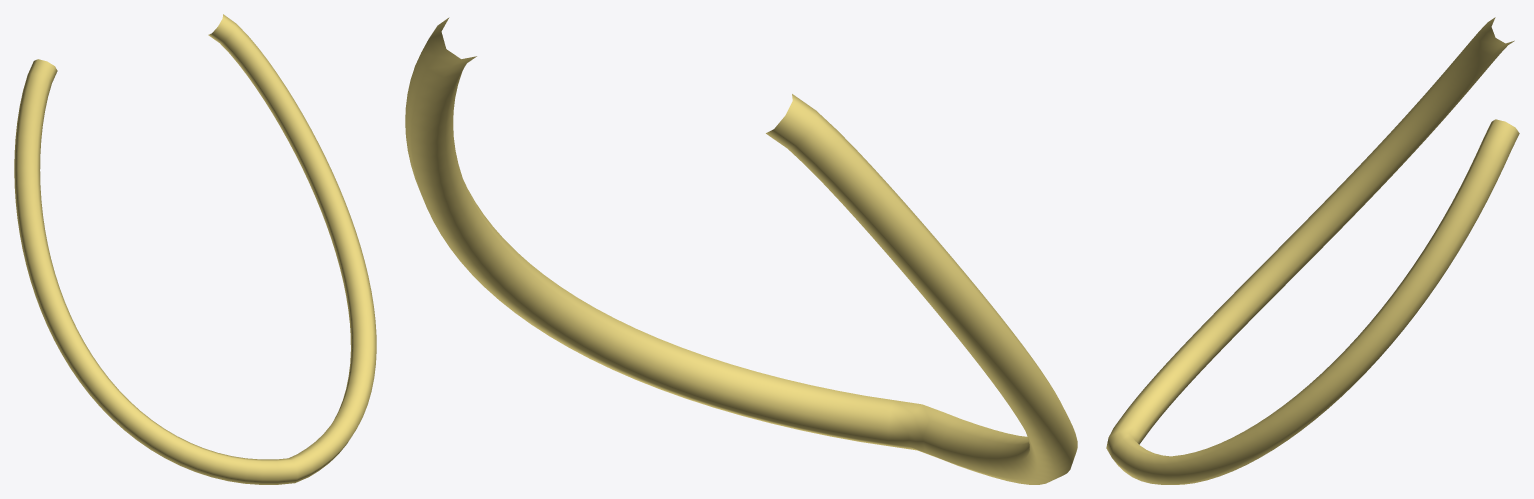
File: shyn-prod-3.glb
3 renders of one model, left to right at view 1: azimuth 30°, elevation 25°; view 2: azimuth 150°, elevation 25°; view 3: azimuth 270°, elevation 25°, orthographic. The views are drawn at different scales.
Visible parts, largest first — view 1: part; view 2: part; view 3: part.
Part boxes in pixels (x1,y1,x2,y2): part: (14, 14, 376, 484); part: (405, 17, 1077, 484); part: (1106, 17, 1519, 484).
Size of the model in its own units: 0.4457 by 0.4475 by 0.4285.
